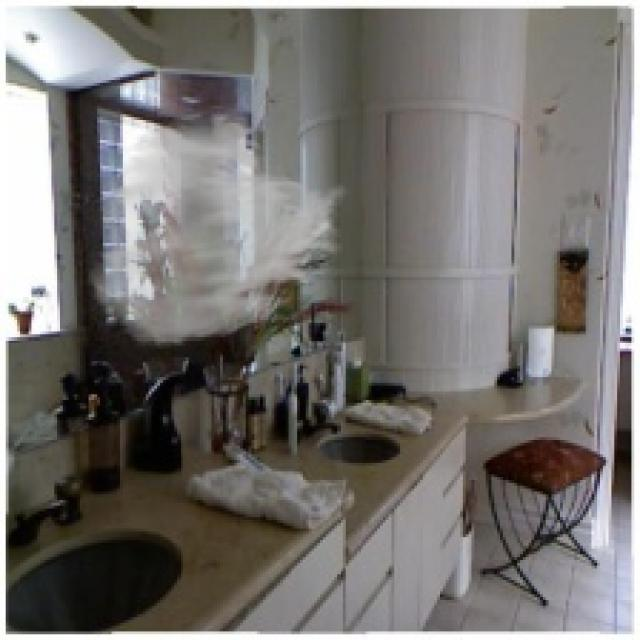smoke: (86, 109, 351, 348)
